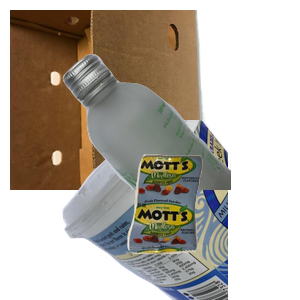cardboard: (10, 10, 211, 190)
glass: (60, 51, 300, 231)
plastic: (60, 120, 300, 300)
trash: (125, 152, 300, 300)
